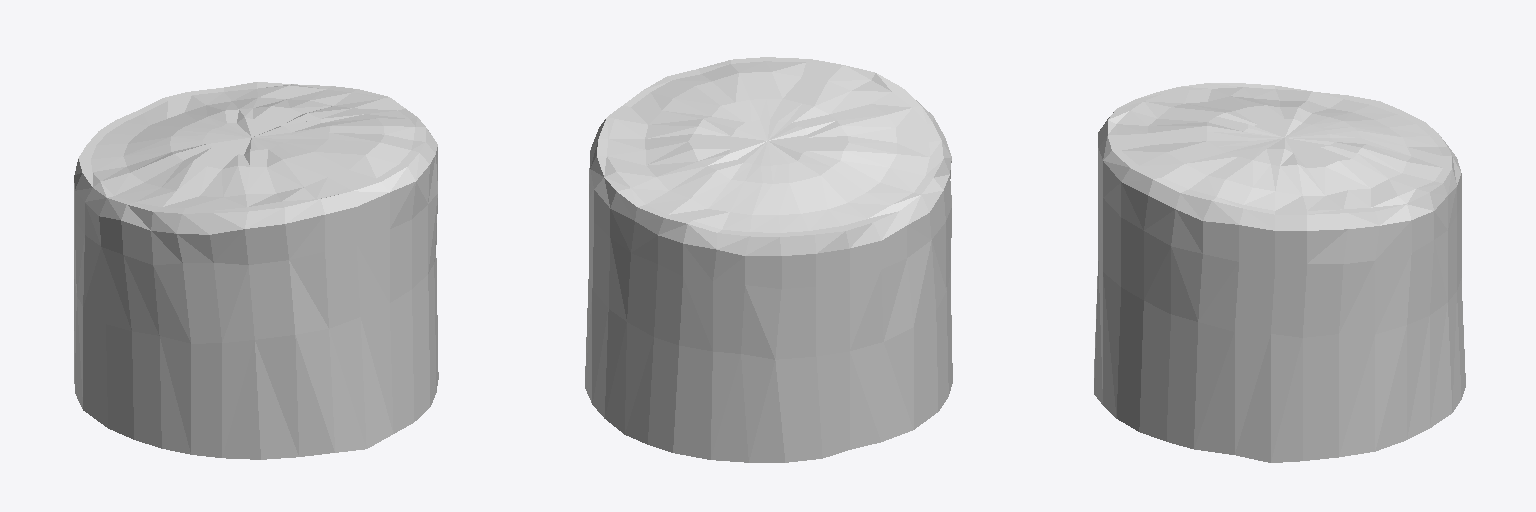
Rendered from left_app_button.obj.
3 renders of one model, left to right at view 1: azimuth 30°, elevation 25°; view 2: azimuth 150°, elevation 25°; view 3: azimuth 270°, elevation 25°, orthographic.
Visible parts, largest first — view 1: left_app_button; view 2: left_app_button; view 3: left_app_button.
Part boxes in pixels (x1,y1,x2,y2): left_app_button: (74, 82, 438, 459); left_app_button: (585, 57, 952, 462); left_app_button: (1094, 83, 1465, 462).
Bounding box in the file's own units: 0.0081 × 0.0063 × 0.0082.